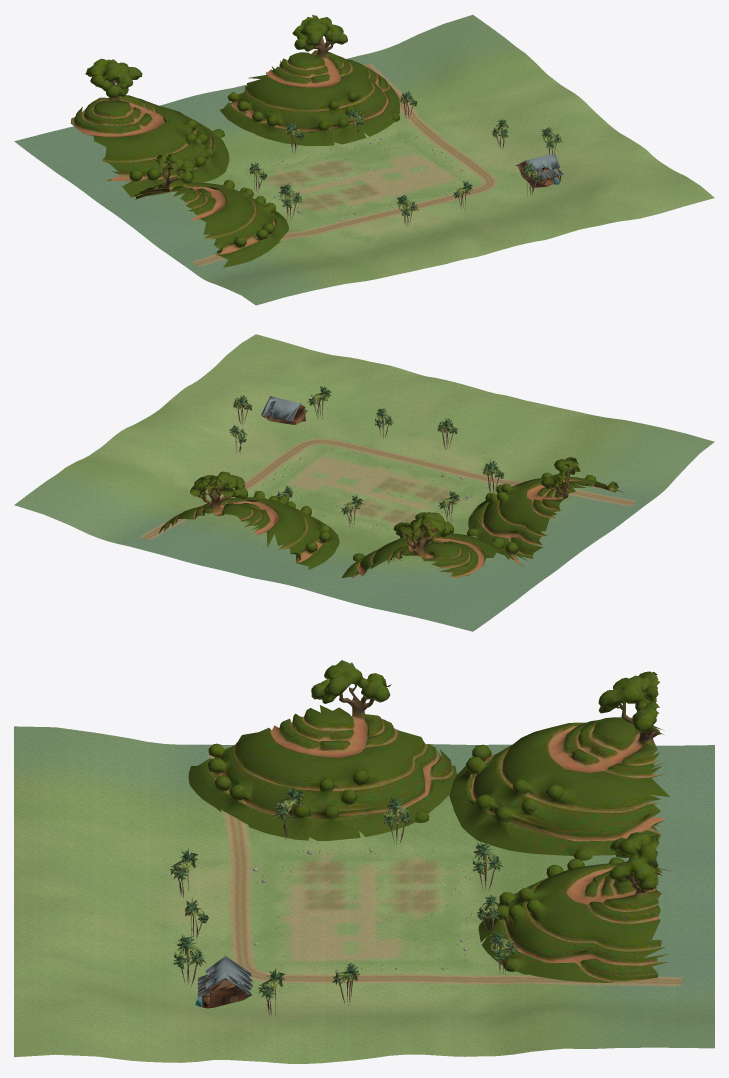
The model's file is surroundings.glb.
The picture shows the model from 3 angles, top to bottom: view 1: azimuth 30°, elevation 25°; view 2: azimuth 150°, elevation 25°; view 3: azimuth 270°, elevation 25°; orthographic projection. The views are drawn at different scales.
Parts seen in each view (by area): view 1: farm_land, farm_meshy; view 2: farm_land, farm_meshy; view 3: farm_land, farm_meshy.
Part boxes in pixels (x1,y1,x2,y2): farm_land: (14,15,714,305); farm_meshy: (70,14,563,267); farm_land: (14,334,714,631); farm_meshy: (159,386,623,578); farm_land: (14,726,714,1063); farm_meshy: (169,660,671,1015).
Size of the model in its own units: 92 by 17.97 by 84.
3 materials, 2 textured.
